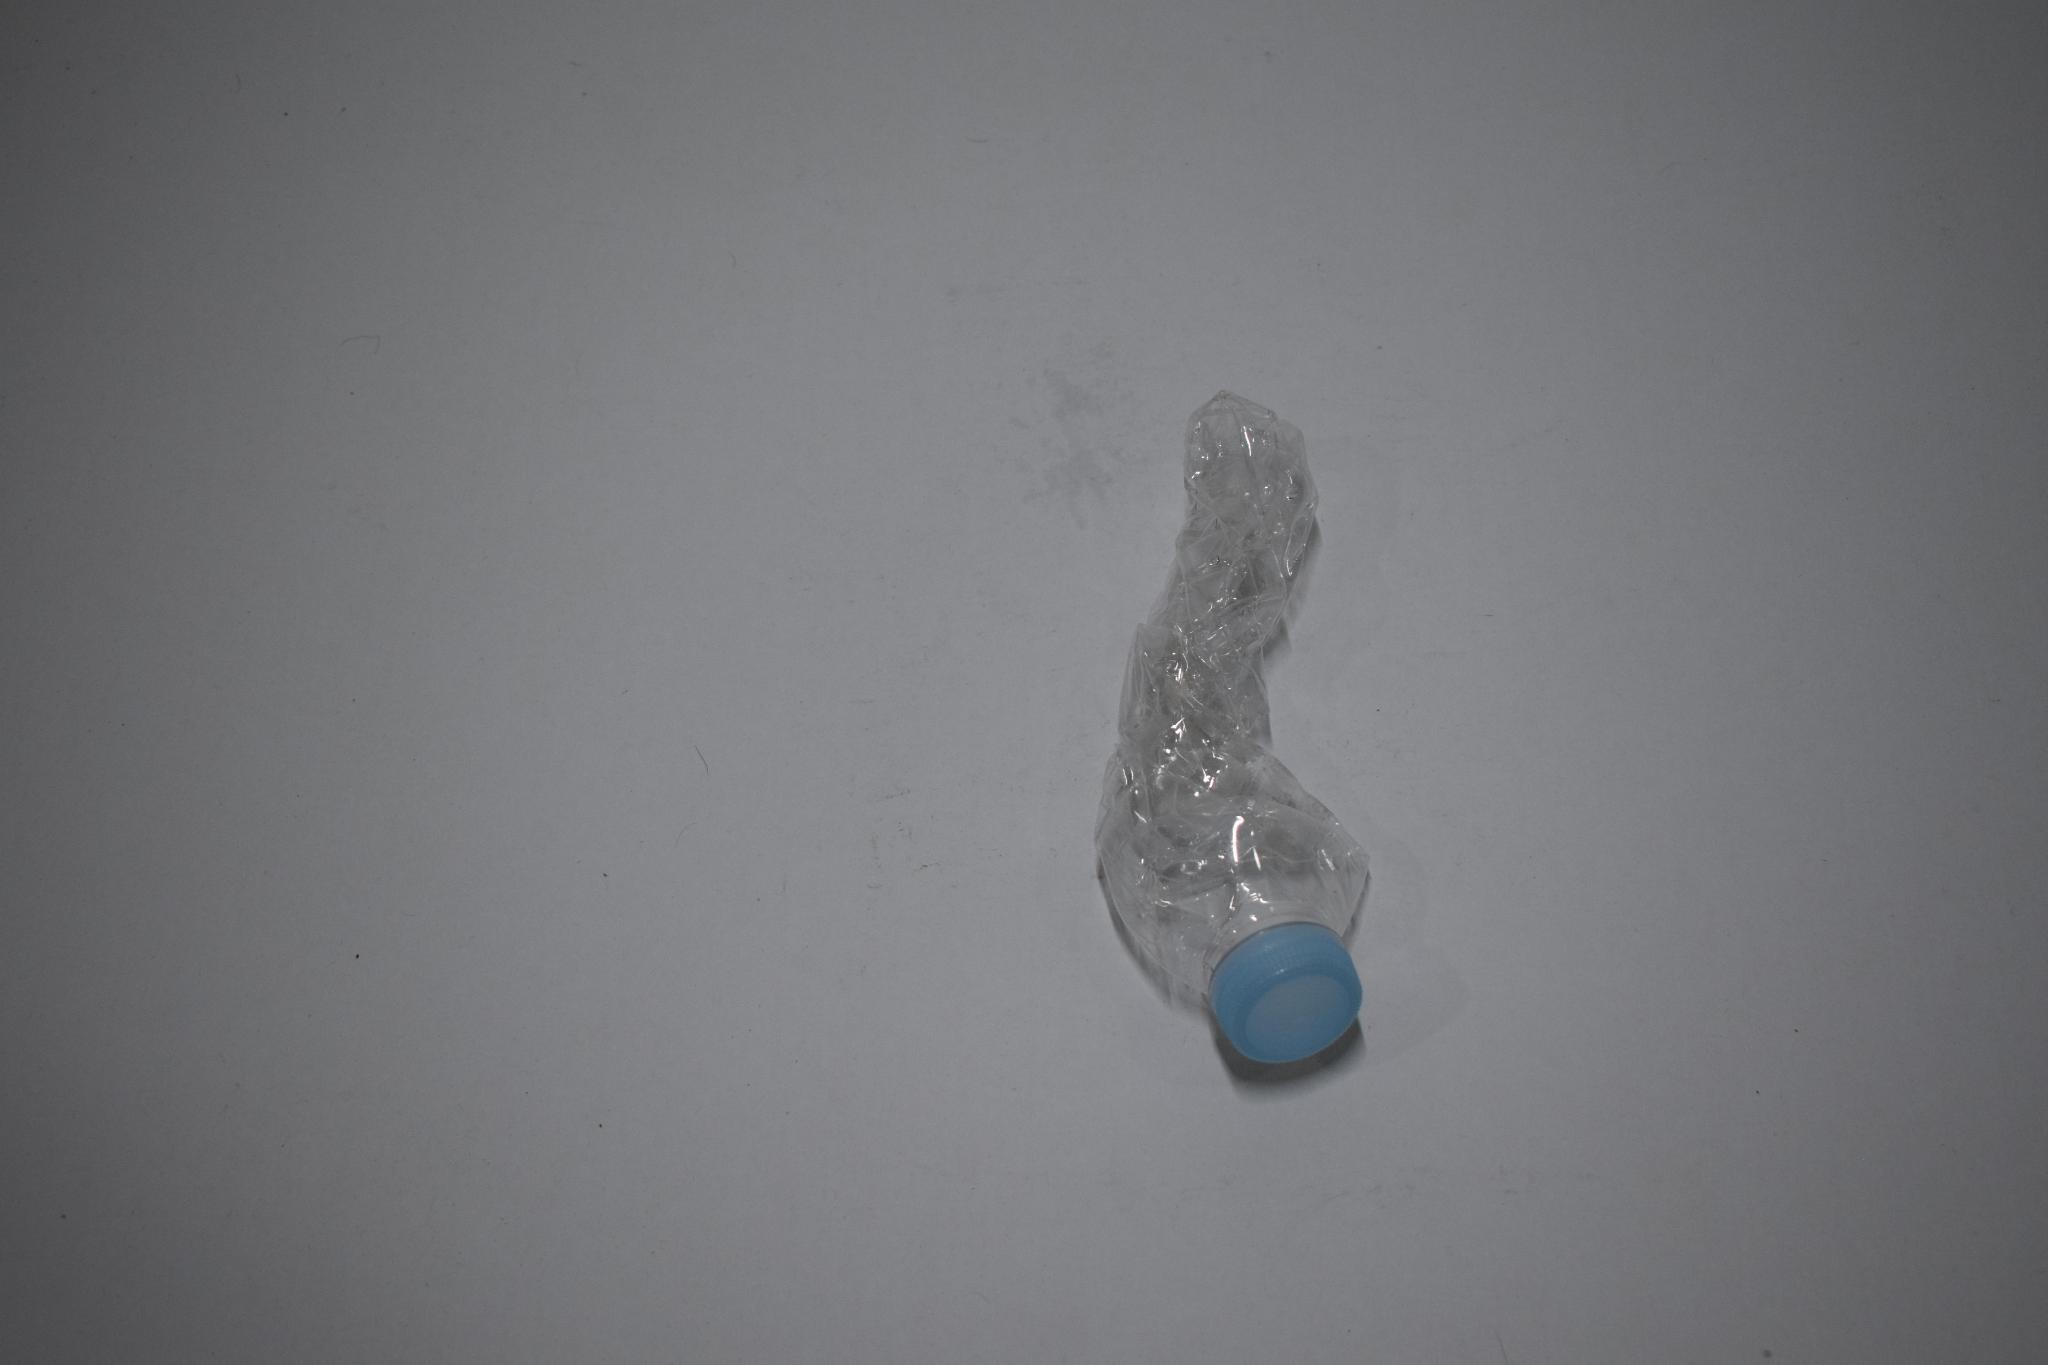bottle: (1089, 355, 1373, 1086)
